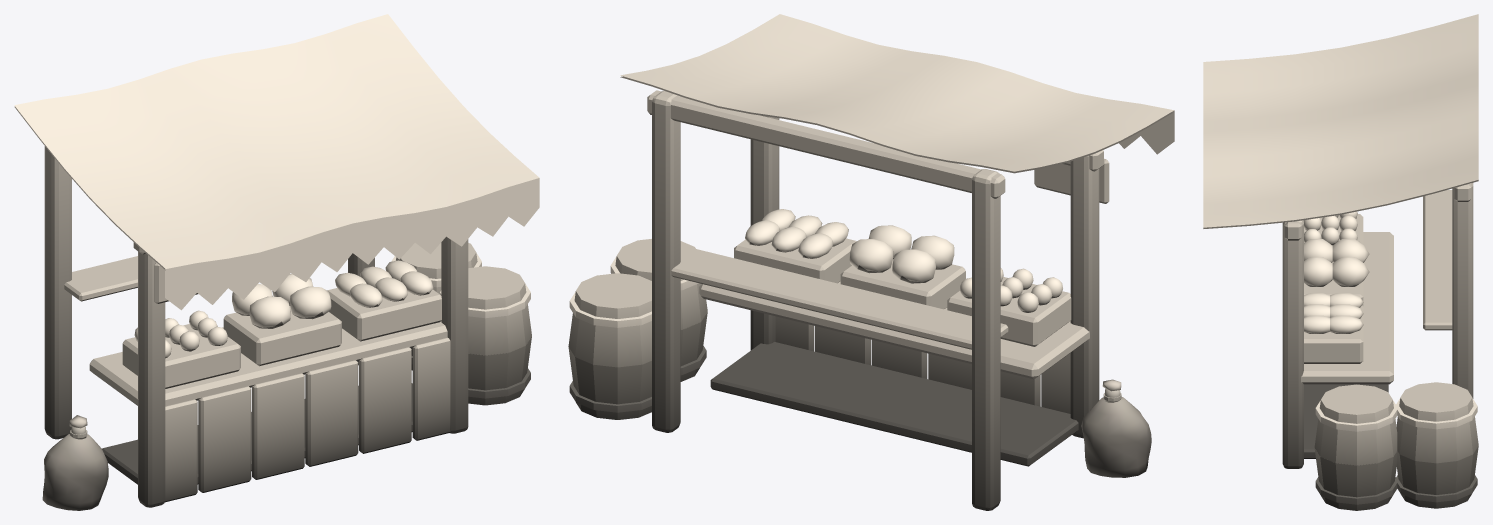
File: SM_VK_MarketStall.fbx
3 renders of one model, left to right at view 1: azimuth 30°, elevation 25°; view 2: azimuth 150°, elevation 25°; view 3: azimuth 270°, elevation 25°, orthographic. The views are drawn at different scales.
Visible parts, largest first — view 1: SM_VK_MarketStall.001; view 2: SM_VK_MarketStall.001; view 3: SM_VK_MarketStall.001.
Boxes of the visible parts, x1=… form: SM_VK_MarketStall.001: x1=14, y1=14, x2=539, y2=510; SM_VK_MarketStall.001: x1=568, y1=14, x2=1174, y2=510; SM_VK_MarketStall.001: x1=1203, y1=14, x2=1478, y2=510.
Size of the model in its own units: 4.87 by 3.17 by 2.6.
